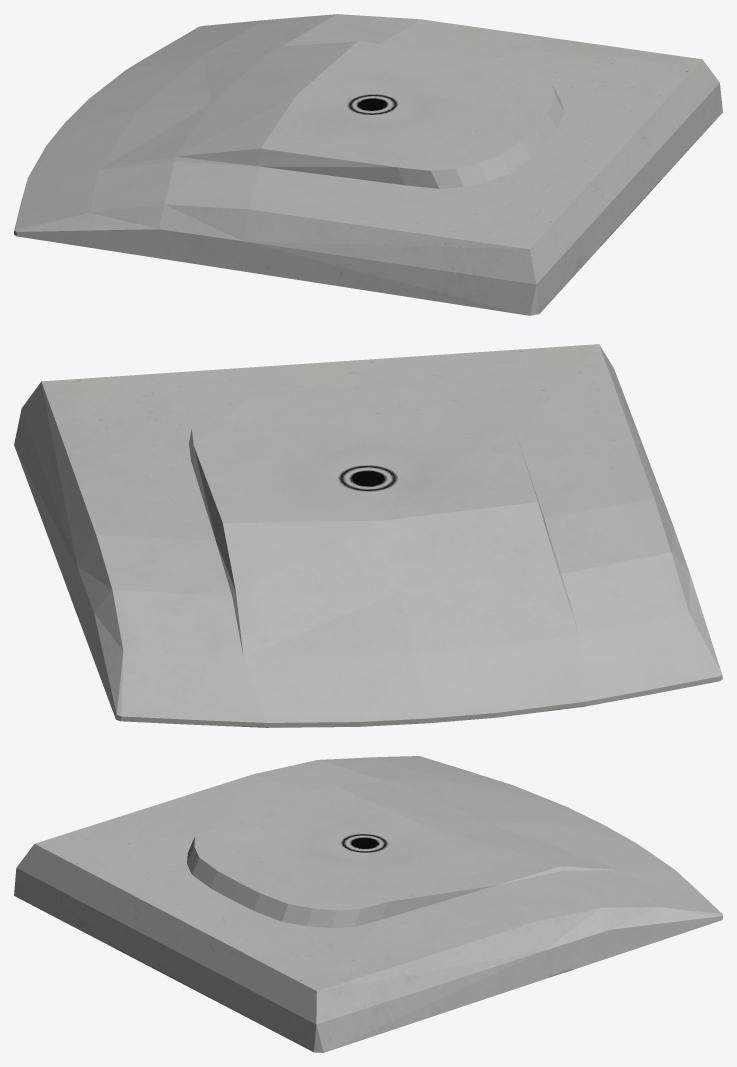
File: mesh22.dat.obj
The picture shows the model from 3 angles, top to bottom: view 1: azimuth 30°, elevation 25°; view 2: azimuth 150°, elevation 25°; view 3: azimuth 270°, elevation 25°; orthographic projection. The views are drawn at different scales.
Parts seen in each view (by area): view 1: top_main_low; view 2: top_main_low; view 3: top_main_low.
Boxes of the visible parts, x1,y1,x2,y2 form: top_main_low: (14,14,722,315); top_main_low: (14,344,722,727); top_main_low: (14,756,722,1052).
Size of the model in its own units: 6.58 by 0.7285 by 6.63.
Materials: 1 (1 with a texture image).
